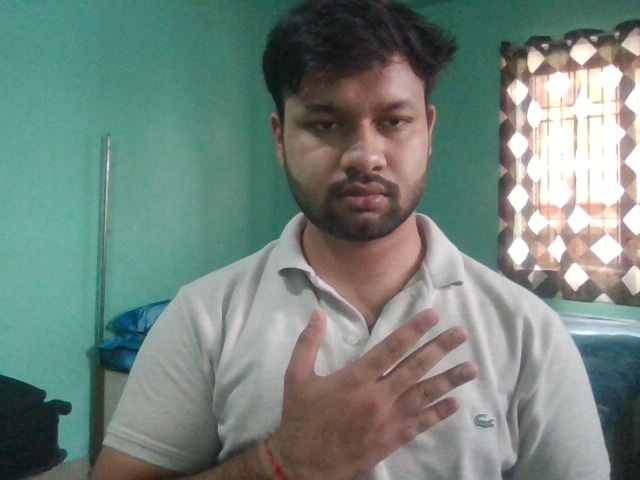Please: (270, 304, 481, 480)
